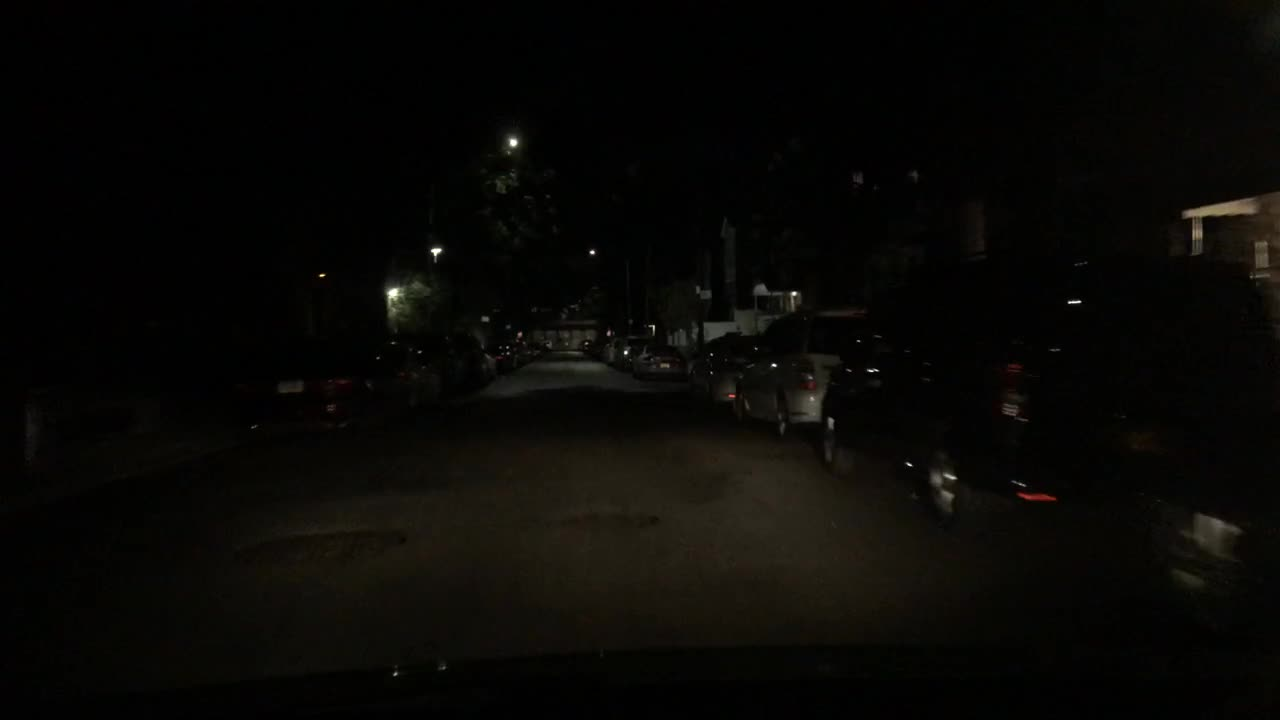car: (816, 253, 1257, 526), (1131, 378, 1276, 633), (730, 306, 870, 444), (236, 330, 395, 446), (681, 332, 767, 416), (367, 337, 451, 416), (414, 330, 480, 395), (631, 337, 688, 383), (458, 332, 499, 382), (615, 334, 650, 372), (482, 337, 513, 375), (601, 336, 629, 369), (505, 339, 526, 367), (519, 339, 538, 365), (592, 334, 608, 360), (526, 339, 548, 356), (578, 336, 594, 355)
traffic sign: (697, 286, 715, 302)
